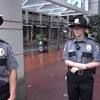uniform: (63, 34, 100, 95)
